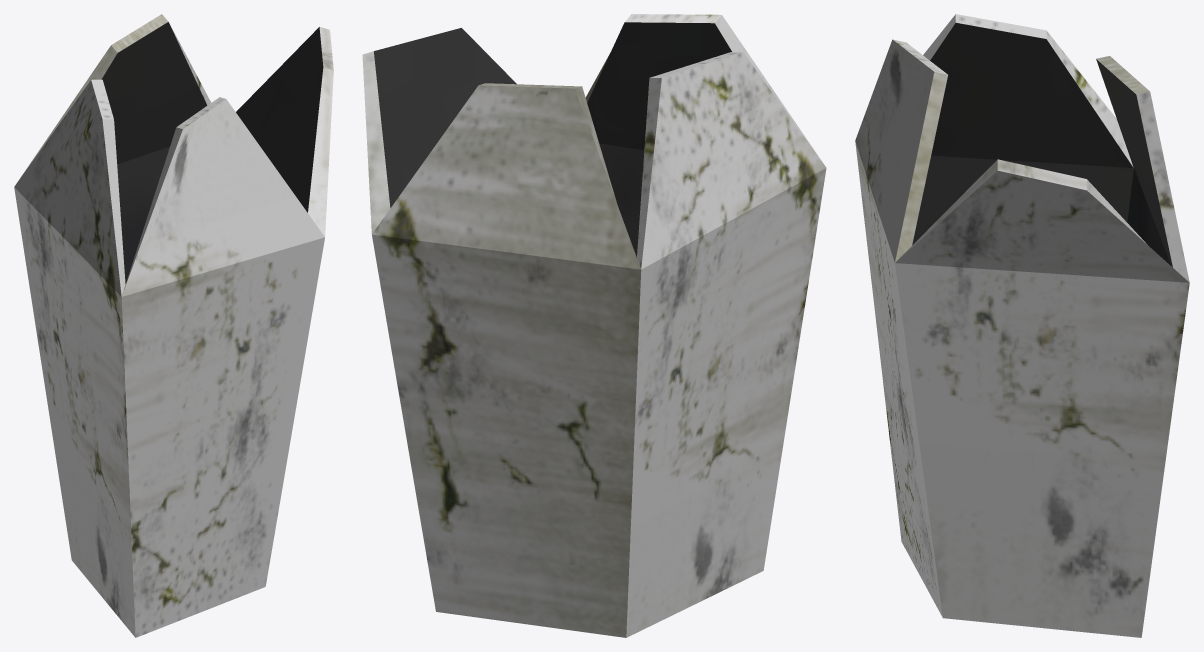
File: noodle_box.fbx
3 views of the same model, side by side, from view 1: azimuth 30°, elevation 25°; view 2: azimuth 150°, elevation 25°; view 3: azimuth 270°, elevation 25° (orthographic). The views are drawn at different scales.
Visible parts, largest first — view 1: noodle_box; view 2: noodle_box; view 3: noodle_box.
Boxes of the visible parts, x1,y1,x2,y2 form: noodle_box: (14, 14, 333, 637); noodle_box: (362, 14, 826, 637); noodle_box: (855, 14, 1189, 637).
Size of the model in its own units: 0.0901 by 0.1352 by 0.0782.
